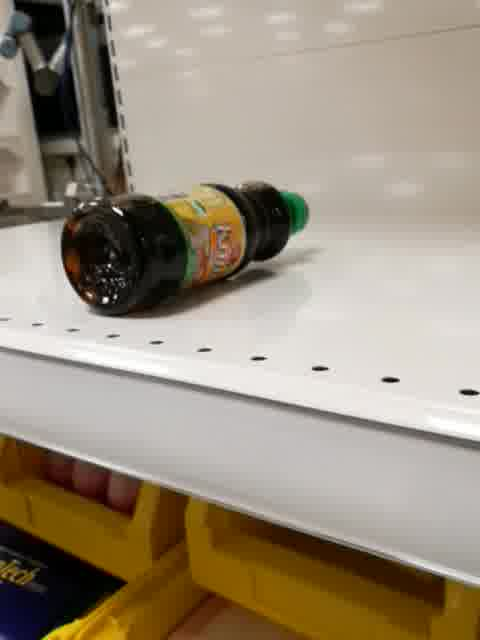cookingoil: (58, 177, 312, 318)
